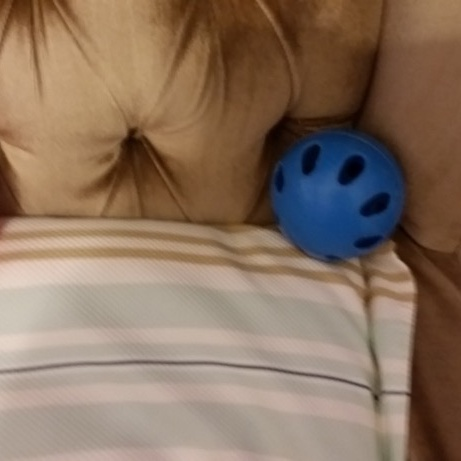ball: (260, 122, 412, 264)
